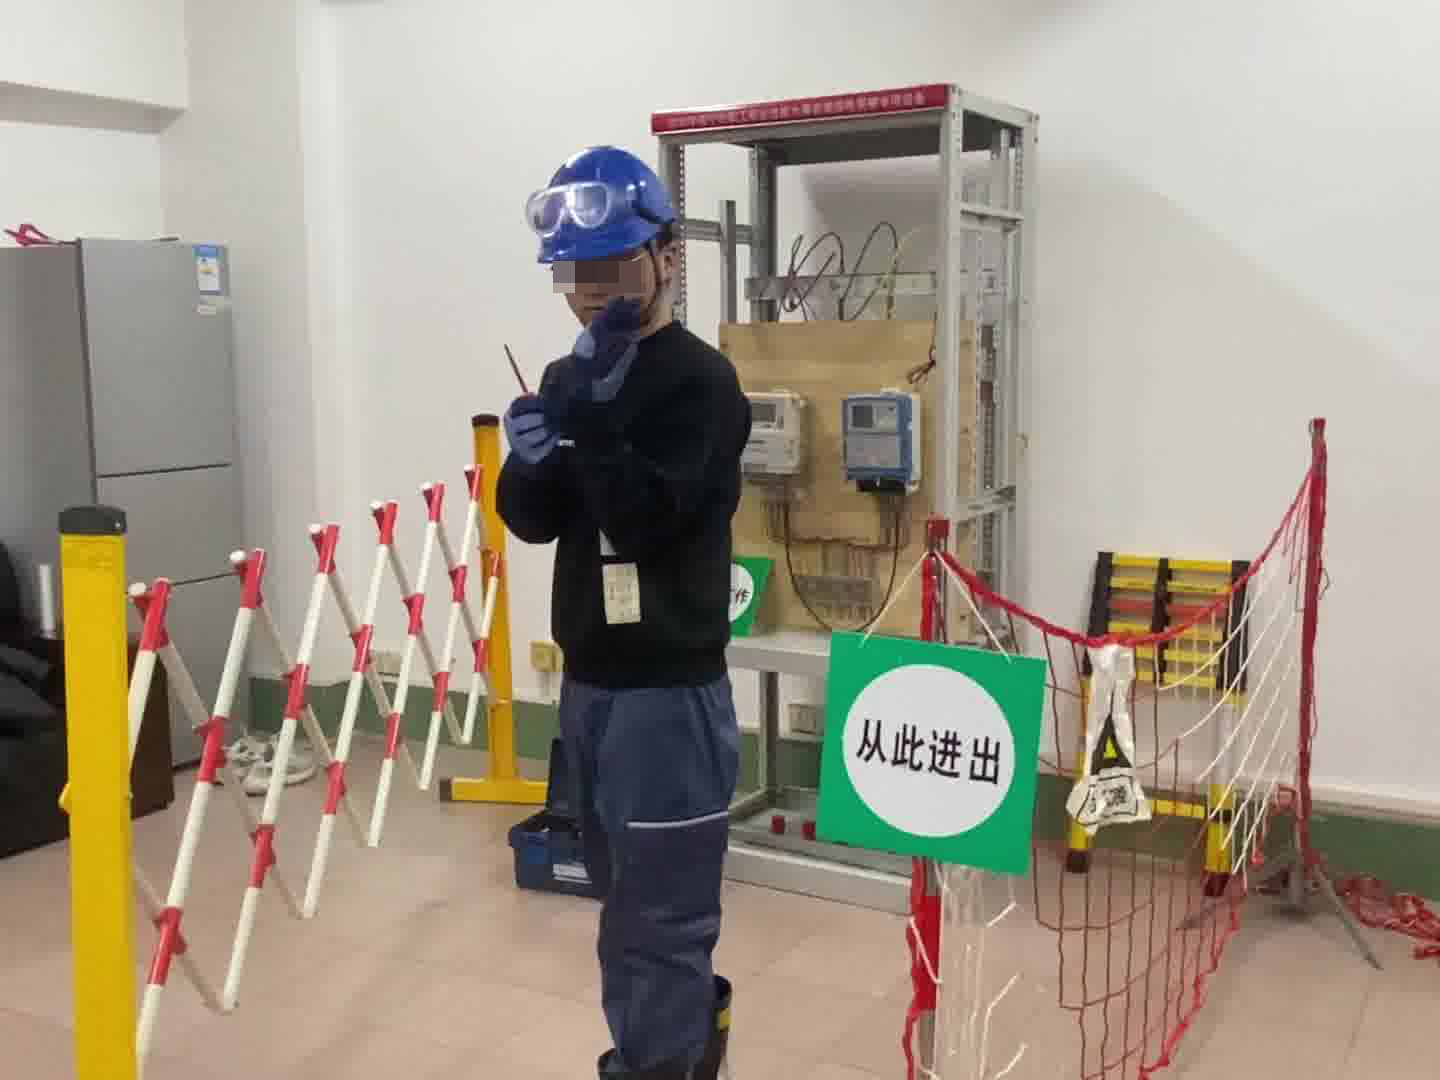downsuit: (540, 680, 747, 1079)
glove: (567, 295, 635, 407), (502, 393, 565, 467)
halt: (532, 141, 693, 327)
inear: (643, 235, 683, 289)
intosign: (808, 620, 1047, 885)
person: (480, 139, 774, 1080)
testpen: (497, 342, 530, 393)
upcloth: (491, 317, 757, 676)
upsuit: (491, 316, 758, 675)
